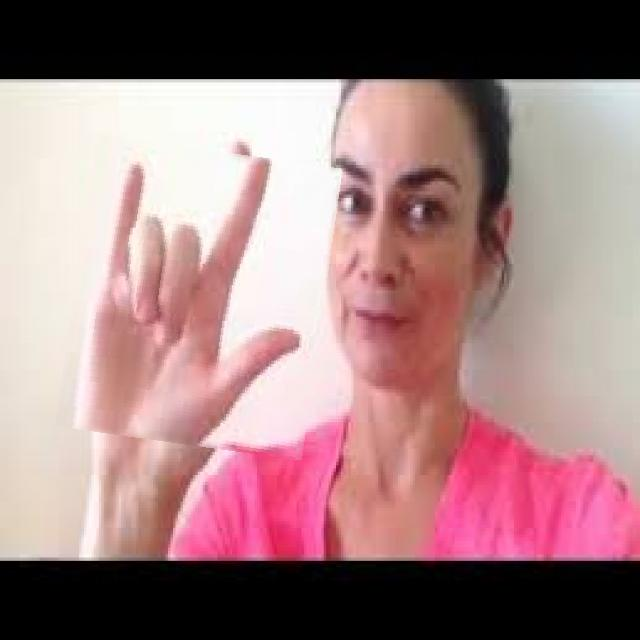I Love You: (65, 142, 332, 453)
